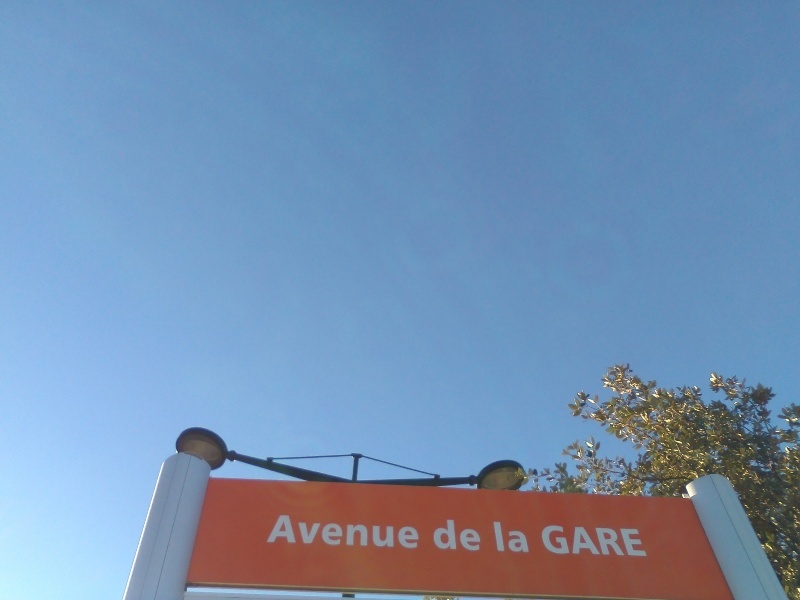text: (289, 514, 304, 550), (305, 514, 320, 550), (321, 514, 336, 550), (337, 514, 352, 550), (353, 514, 368, 550), (369, 514, 384, 550), (385, 514, 400, 550), (401, 514, 416, 550), (433, 518, 448, 552), (449, 518, 464, 552), (465, 518, 480, 552), (497, 521, 512, 553), (513, 521, 528, 553), (545, 526, 560, 558), (561, 526, 576, 558), (577, 526, 592, 558), (593, 526, 608, 558), (609, 526, 624, 558), (625, 526, 640, 558), (279, 514, 288, 550), (641, 526, 649, 558), (539, 526, 544, 558), (492, 521, 496, 553), (417, 514, 420, 550), (481, 518, 482, 552), (529, 521, 530, 553)
